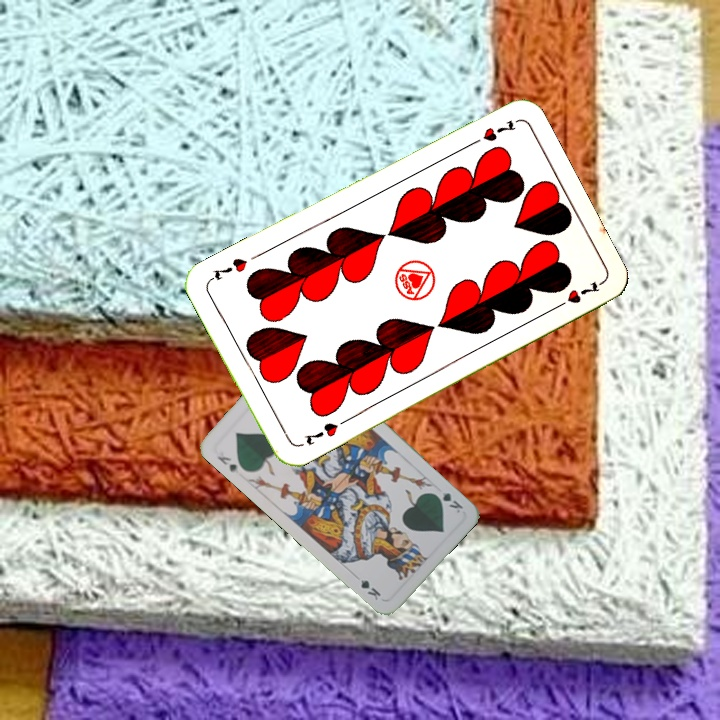GK: (429, 487, 466, 516), (213, 452, 242, 476)
H7: (464, 116, 519, 150), (300, 418, 341, 448)
